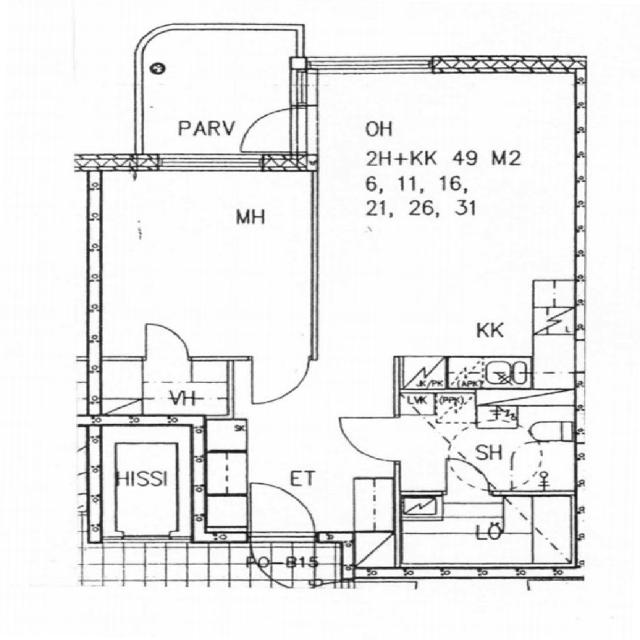door: (310, 59, 581, 383), (245, 477, 322, 544), (328, 406, 399, 466), (232, 103, 305, 157), (244, 360, 312, 410), (133, 319, 198, 365), (440, 455, 497, 496)
window: (302, 51, 436, 78), (150, 150, 270, 178)
zone: (87, 168, 320, 358), (136, 26, 295, 162), (412, 398, 582, 496), (393, 496, 575, 573), (97, 422, 190, 542), (94, 353, 233, 419), (196, 492, 250, 542), (398, 388, 477, 422)
